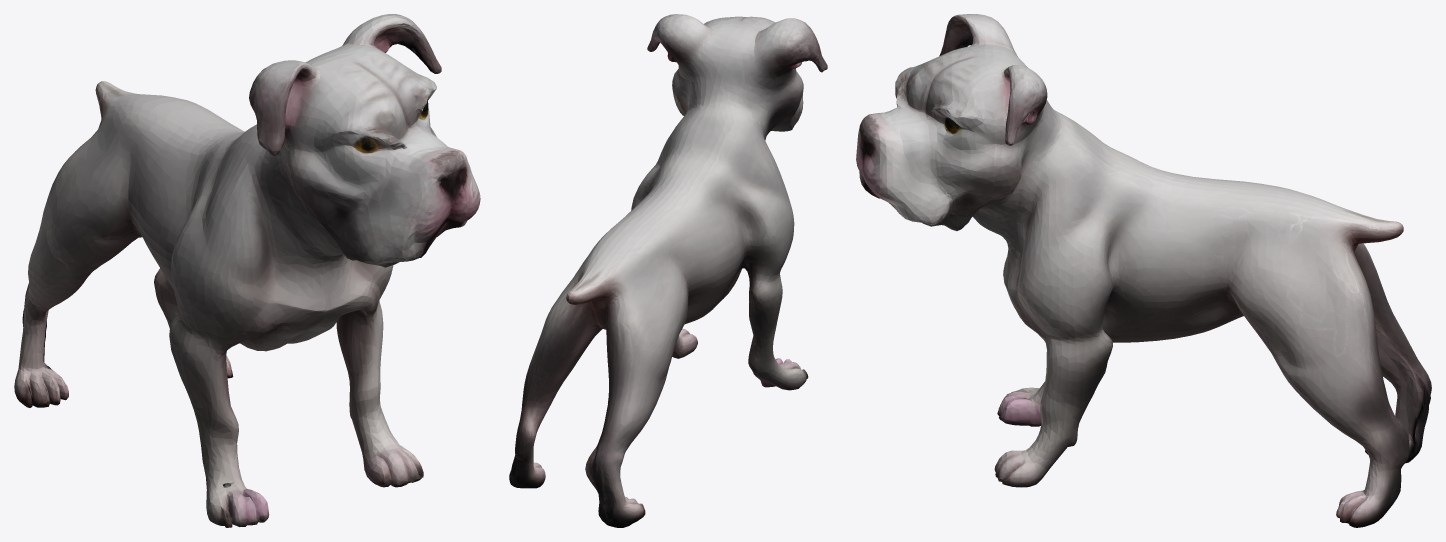
The model's file is pitbull.glb.
The picture shows the model from 3 angles, left to right: view 1: azimuth 30°, elevation 25°; view 2: azimuth 150°, elevation 25°; view 3: azimuth 270°, elevation 25°; orthographic projection. The views are drawn at different scales.
Parts seen in each view (by area): view 1: world; view 2: world; view 3: world.
Part boxes in pixels (box(x1,y1,x2,y2)): world: box(14, 14, 480, 527); world: box(509, 14, 827, 527); world: box(856, 14, 1431, 527).
Size of the model in its own units: 0.3926 by 0.8532 by 0.9958.
Materials: 1 (1 with a texture image).
